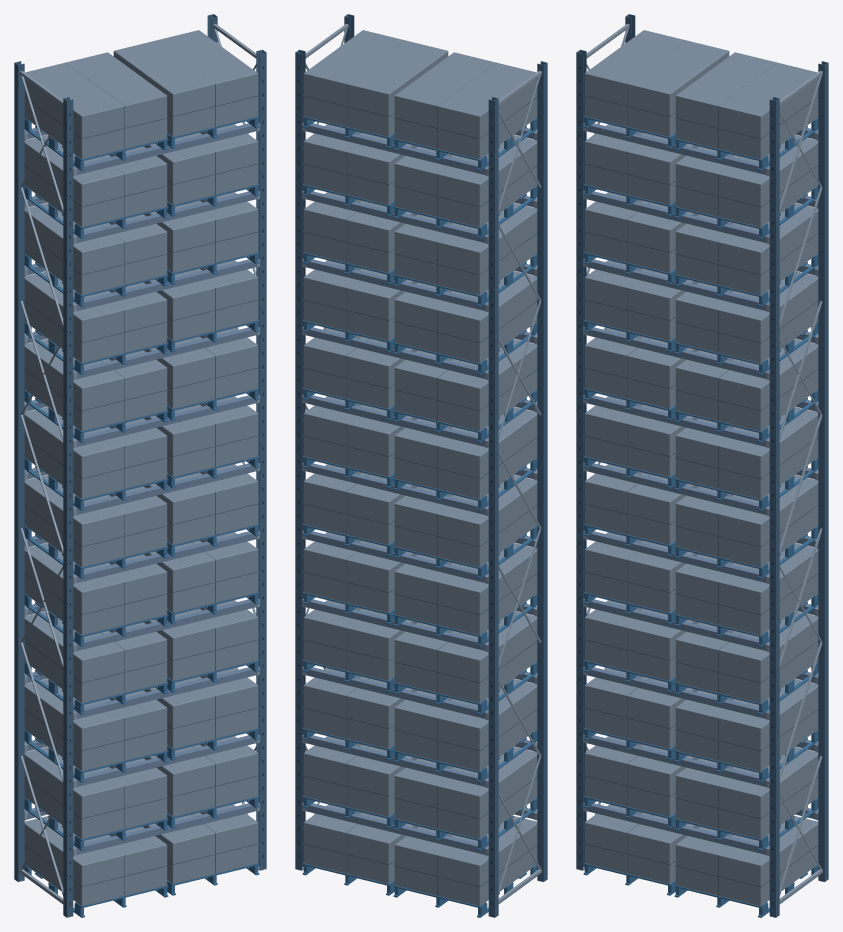
The model's file is SM_GHS_CADRack_B_W23409.fbx.
The picture shows the model from 3 angles, left to right: view 1: azimuth 30°, elevation 25°; view 2: azimuth 150°, elevation 25°; view 3: azimuth 330°, elevation 25°; orthographic projection.
Parts seen in each view (by area): view 1: SM_GHS_CADRack_B_W23409; view 2: SM_GHS_CADRack_B_W23409; view 3: SM_GHS_CADRack_B_W23409.
Part boxes in pixels (<box>): SM_GHS_CADRack_B_W23409: <box>14,14,266,917</box>; SM_GHS_CADRack_B_W23409: <box>295,14,547,917</box>; SM_GHS_CADRack_B_W23409: <box>576,14,828,917</box>.
Bounding box in the file's own units: 234 × 122 × 915.
